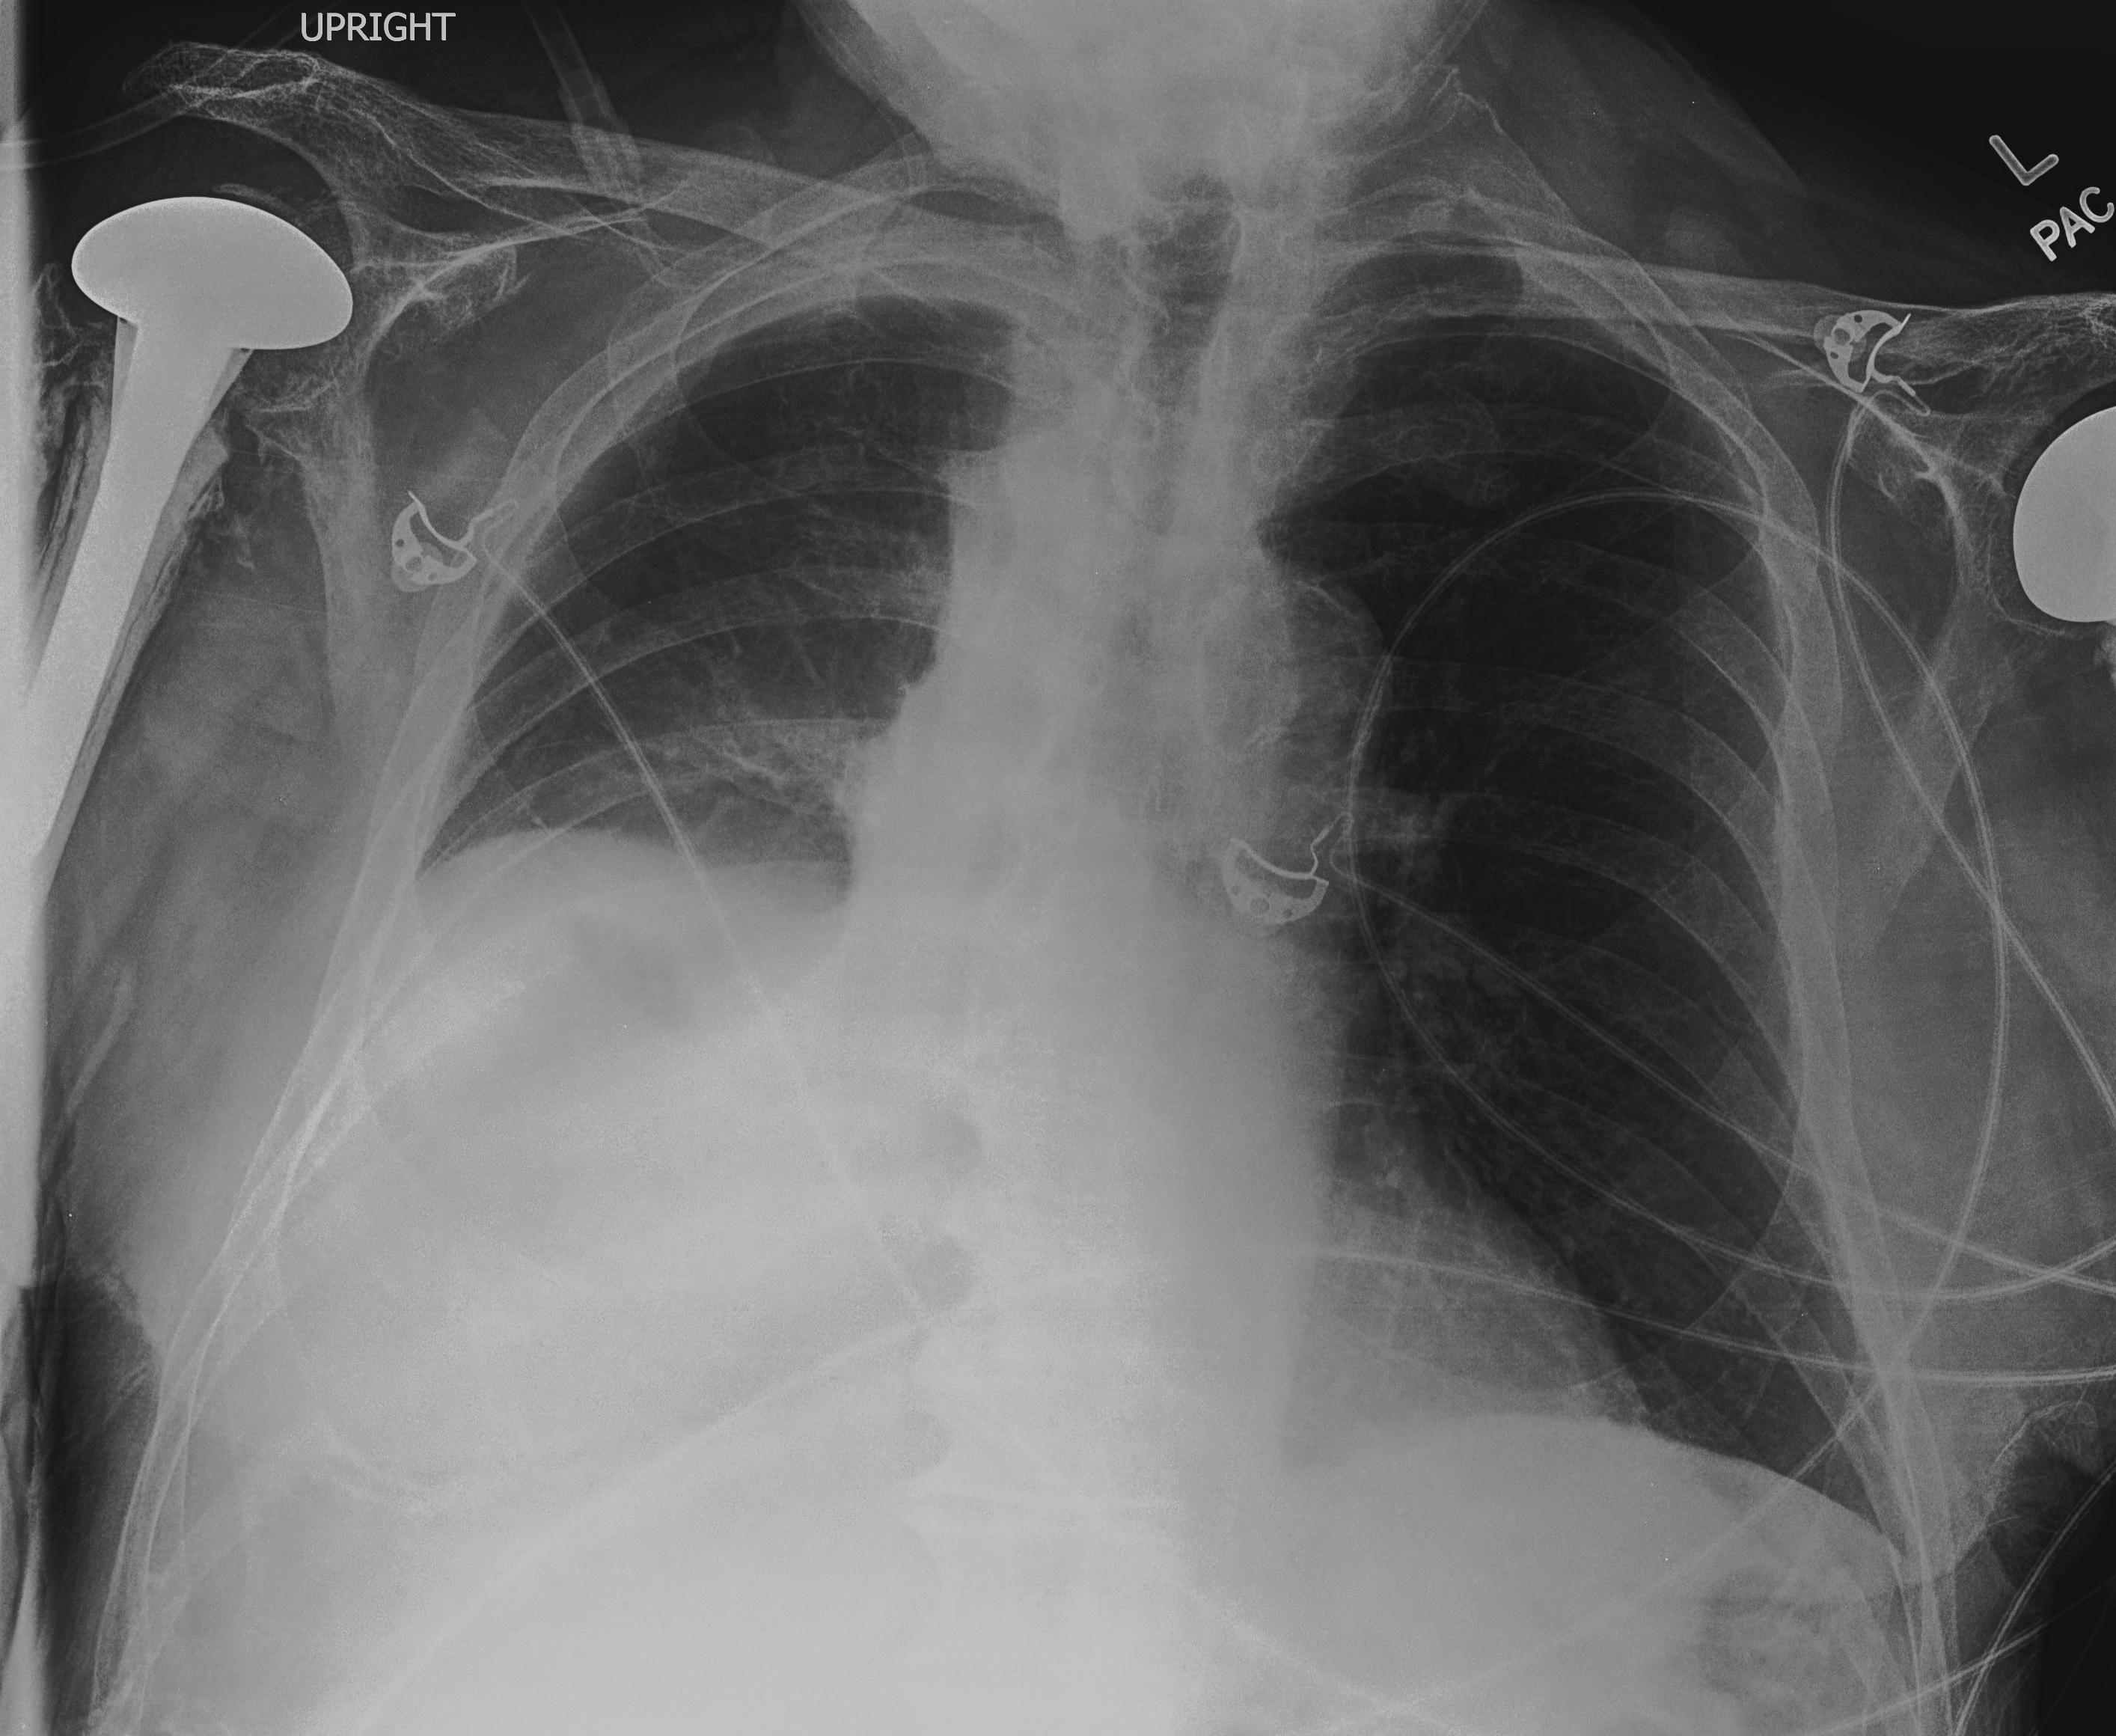Pleural Effusion: (257, 826, 849, 1255)
